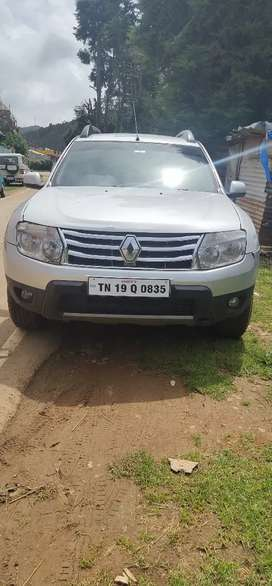TN19Q0835: (88, 279, 169, 297)
